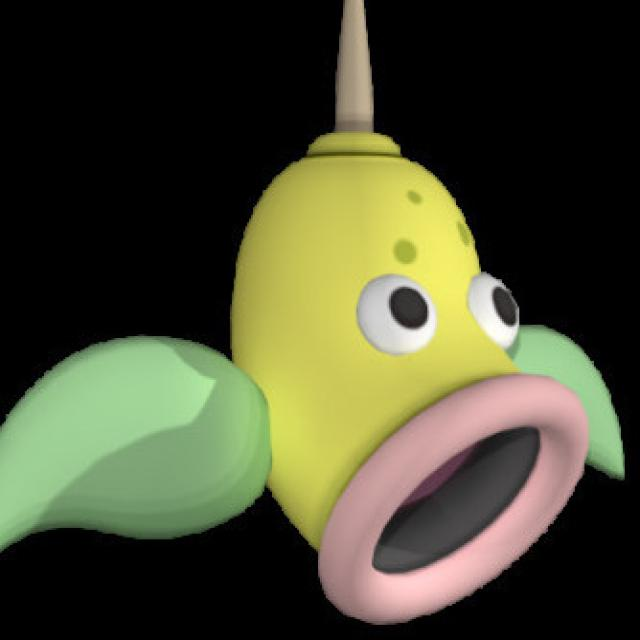Weepinbell: (206, 123, 598, 602)
